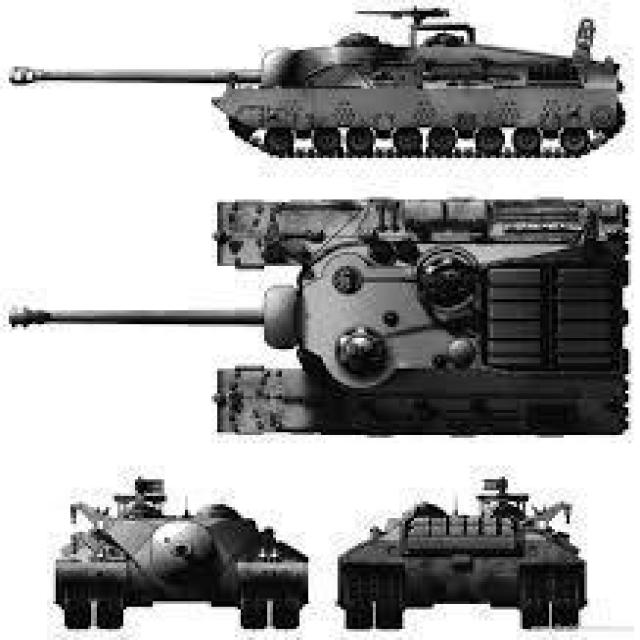Tanks: (7, 166, 633, 430), (7, 5, 630, 158), (332, 468, 590, 637), (50, 475, 314, 633)
